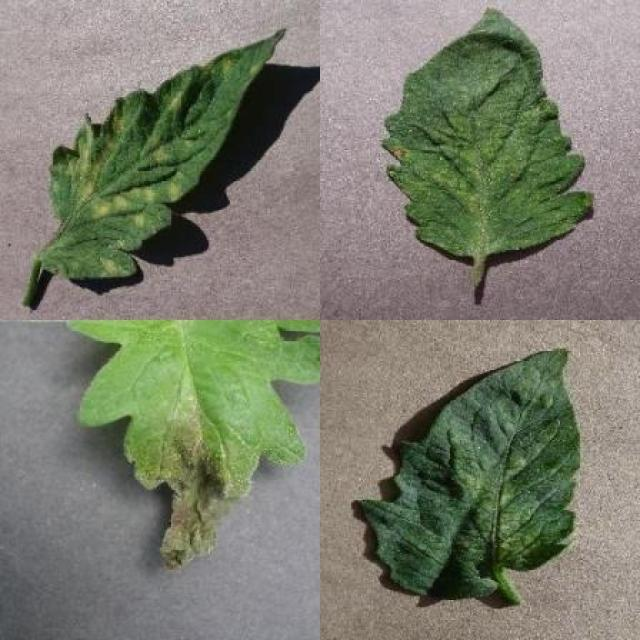Late Blight: (60, 320, 320, 573)
Leaf Mold: (46, 28, 284, 281)
Spider Mites: (358, 348, 582, 601), (383, 6, 594, 257)
